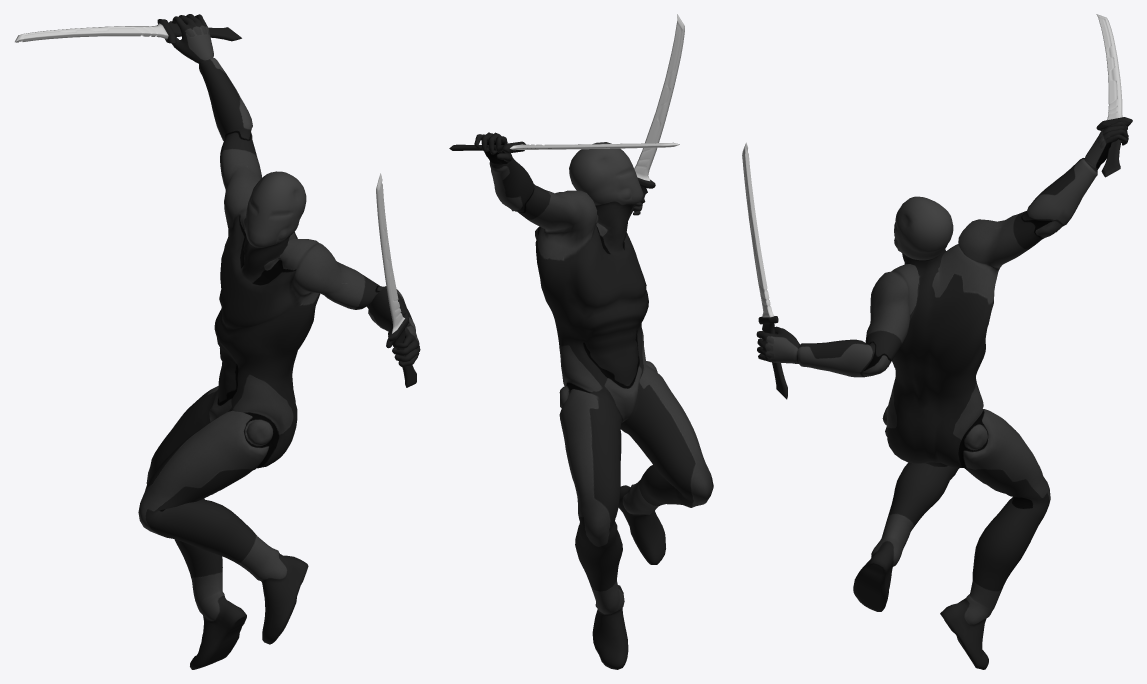
The picture shows the model from 3 angles, left to right: view 1: azimuth 30°, elevation 25°; view 2: azimuth 150°, elevation 25°; view 3: azimuth 270°, elevation 25°; orthographic projection. The views are drawn at different scales.
Visible parts, largest first — view 1: Cyborg_Ninja_Killer, Sword_l001, Sword_l; view 2: Cyborg_Ninja_Killer, Sword_l, Sword_l001; view 3: Cyborg_Ninja_Killer, Sword_l, Sword_l001.
Part boxes in pixels (box(x1,y1,x2,y2)): Cyborg_Ninja_Killer: box(138, 14, 420, 669); Sword_l001: box(15, 19, 241, 43); Sword_l: box(376, 173, 416, 387); Cyborg_Ninja_Killer: box(474, 132, 713, 669); Sword_l: box(627, 14, 684, 221); Sword_l001: box(449, 141, 679, 153); Cyborg_Ninja_Killer: box(756, 121, 1128, 669); Sword_l: box(742, 142, 787, 399); Sword_l001: box(1096, 14, 1132, 177).
Size of the model in its own units: 99.15 by 220 by 131.
2 materials, 2 textured.
